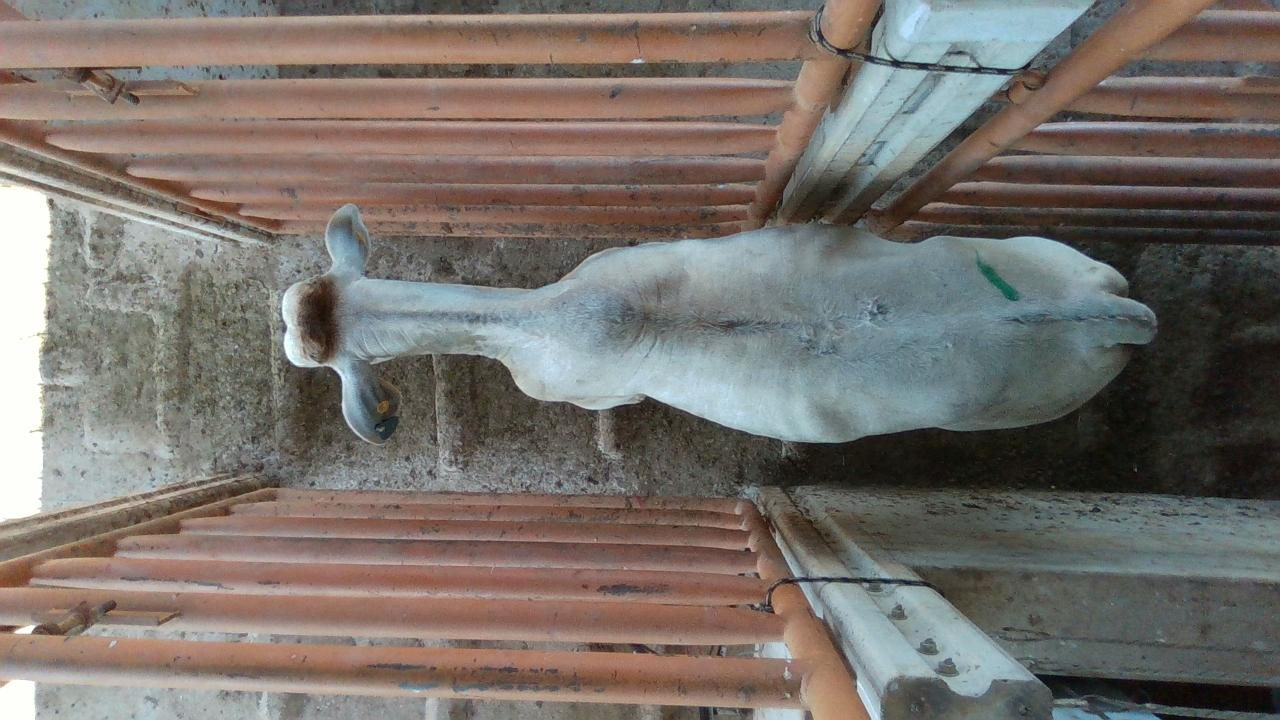cattle: (280, 201, 1158, 447)
